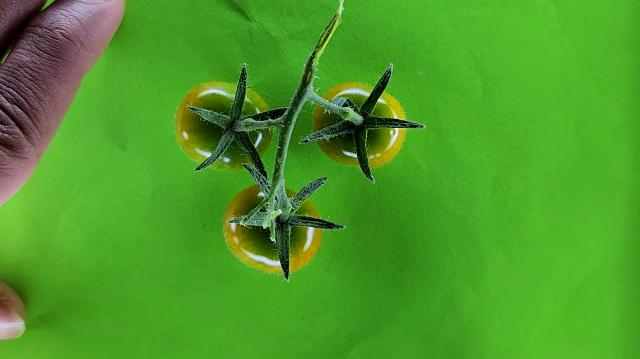Fully Grown: (222, 184, 324, 275), (175, 80, 274, 171), (312, 82, 408, 169)
